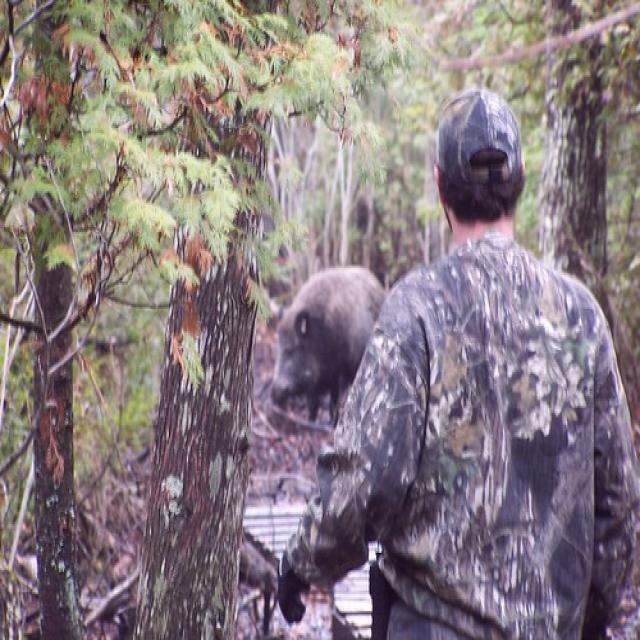boar: (256, 245, 404, 436)
